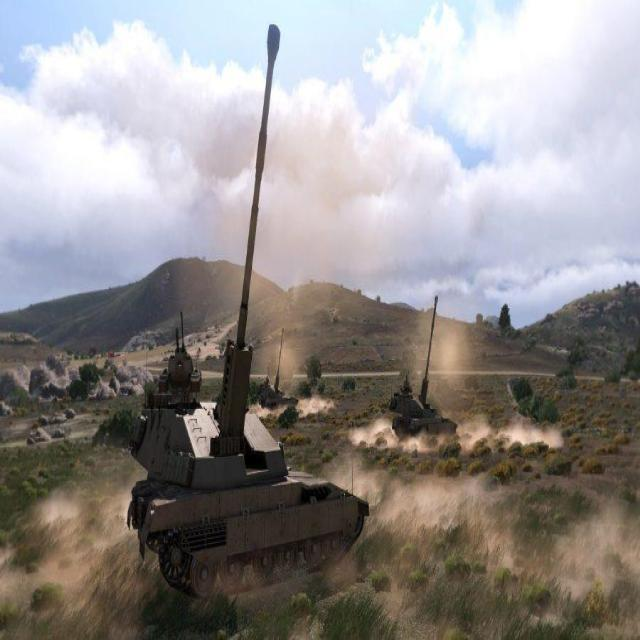MIL_MBT: (136, 339, 368, 581), (391, 297, 457, 434)
